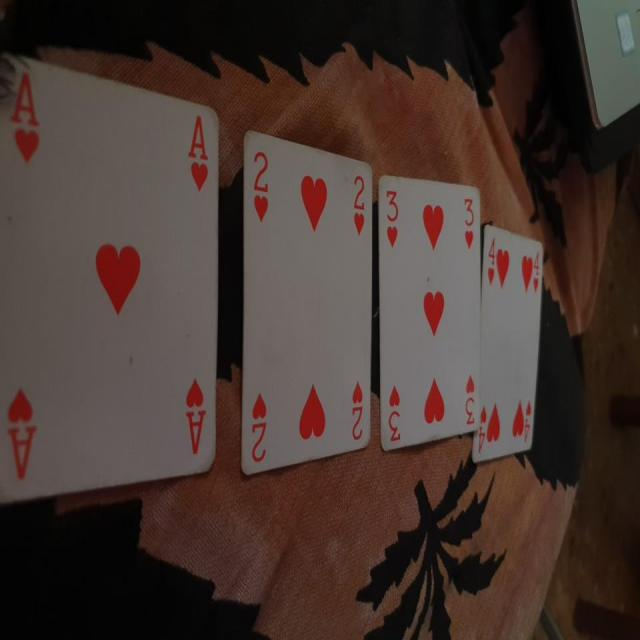2 Hearts: (234, 125, 379, 490)
3 Hearts: (377, 176, 493, 461)
4 Hearts: (480, 221, 552, 472)
A Hearts: (0, 46, 228, 505)
